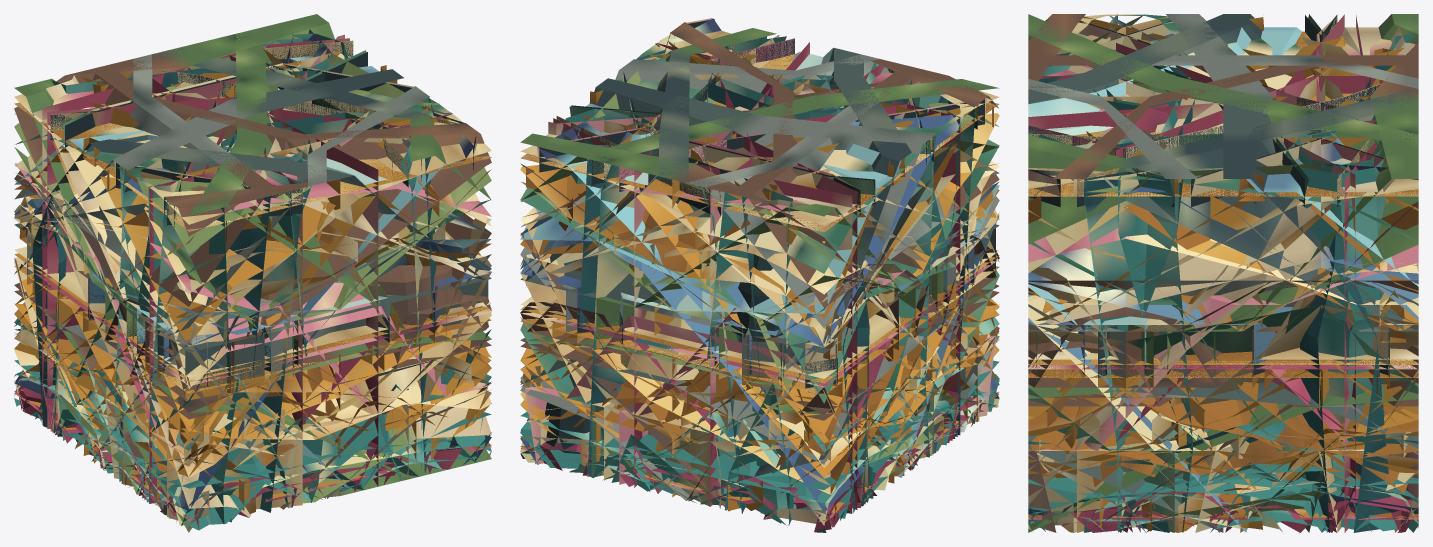
3 views of the same model, side by side, from view 1: azimuth 30°, elevation 25°; view 2: azimuth 150°, elevation 25°; view 3: azimuth 270°, elevation 25° (orthographic). The views are drawn at different scales.
Parts seen in each view (by area): view 1: cell_021, cell_059, cell_020, cell_013, cell_156, cell_133, cell_040, cell_037, cell_057, cell_088, cell_086, cell_094 (+78 smaller); view 2: cell_037, cell_020, cell_128, cell_149, cell_060, cell_058, cell_059, cell_021, cell_089, cell_087, cell_155, cell_040 (+80 smaller); view 3: cell_058, cell_059, cell_124, cell_037, cell_151, cell_007, cell_121, cell_152, cell_057, cell_013, cell_046, cell_040 (+78 smaller).
Boxes of the visible parts, left/top/right/bottom form: cell_021: left=14, top=72, right=491, bottom=430; cell_059: left=20, top=28, right=421, bottom=513; cell_020: left=14, top=54, right=490, bottom=490; cell_013: left=75, top=217, right=491, bottom=525; cell_156: left=14, top=91, right=487, bottom=457; cell_133: left=14, top=197, right=491, bottom=516; cell_040: left=14, top=14, right=334, bottom=374; cell_037: left=22, top=69, right=403, bottom=520; cell_057: left=14, top=139, right=491, bottom=461; cell_088: left=211, top=119, right=428, bottom=523; cell_086: left=42, top=112, right=486, bottom=425; cell_094: left=47, top=97, right=491, bottom=491; cell_037: left=520, top=78, right=998, bottom=446; cell_020: left=522, top=65, right=999, bottom=510; cell_128: left=520, top=103, right=991, bottom=461; cell_149: left=520, top=127, right=872, bottom=348; cell_060: left=592, top=204, right=915, bottom=494; cell_058: left=520, top=28, right=955, bottom=475; cell_059: left=520, top=79, right=999, bottom=462; cell_021: left=523, top=22, right=958, bottom=493; cell_089: left=587, top=164, right=793, bottom=525; cell_087: left=579, top=148, right=960, bottom=434; cell_155: left=520, top=72, right=999, bottom=453; cell_040: left=520, top=133, right=903, bottom=497; cell_058: left=1028, top=88, right=1418, bottom=476; cell_059: left=1028, top=14, right=1418, bottom=474; cell_124: left=1028, top=32, right=1417, bottom=532; cell_037: left=1038, top=14, right=1418, bottom=532; cell_151: left=1028, top=27, right=1308, bottom=477; cell_007: left=1028, top=280, right=1418, bottom=475; cell_121: left=1184, top=97, right=1385, bottom=459; cell_152: left=1028, top=65, right=1418, bottom=477; cell_057: left=1028, top=14, right=1262, bottom=454; cell_013: left=1028, top=265, right=1324, bottom=532; cell_046: left=1300, top=234, right=1391, bottom=532; cell_040: left=1213, top=41, right=1418, bottom=493.
Size of the model in its own units: 1 by 1 by 1.
